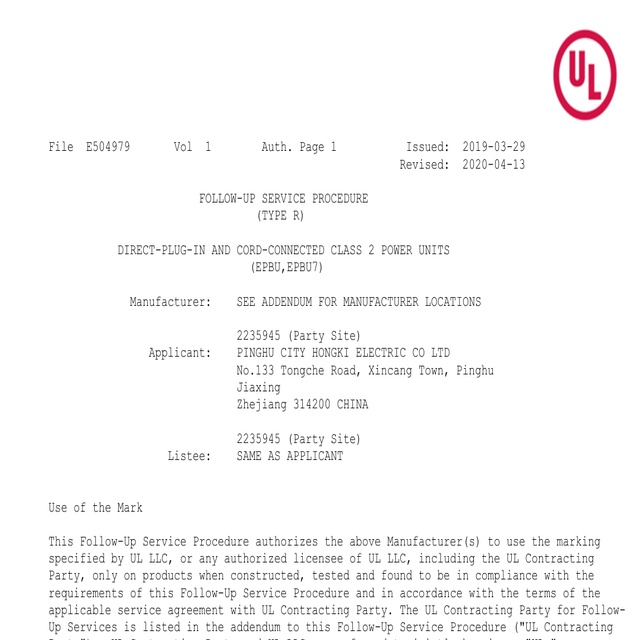ul: (550, 28, 619, 121)
